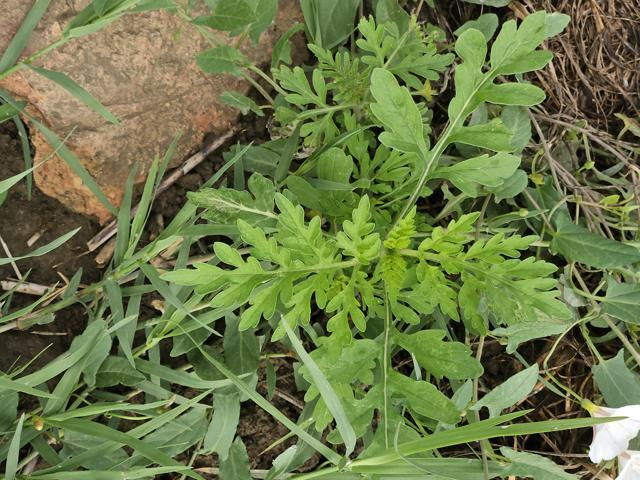bad weed: (102, 19, 582, 468)
